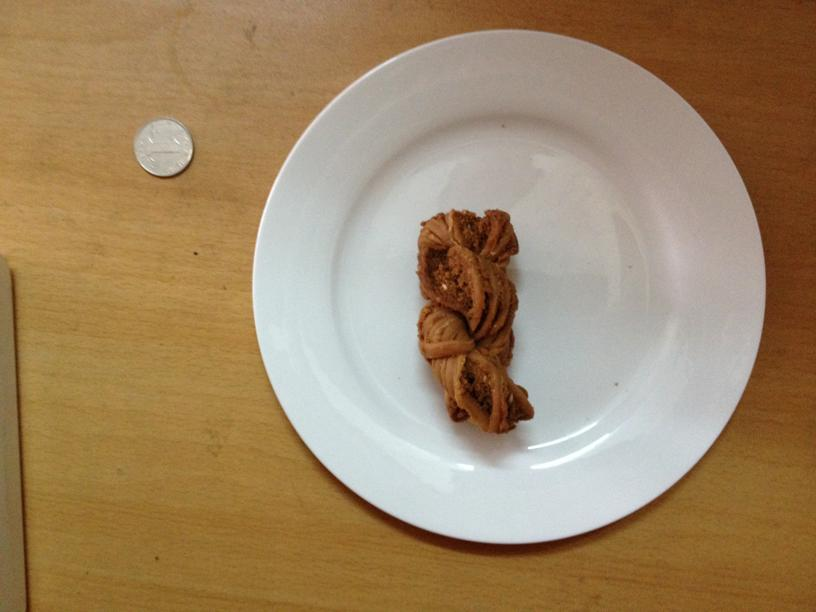coin: (132, 119, 195, 178)
fired_dough_twist: (412, 203, 535, 431)
